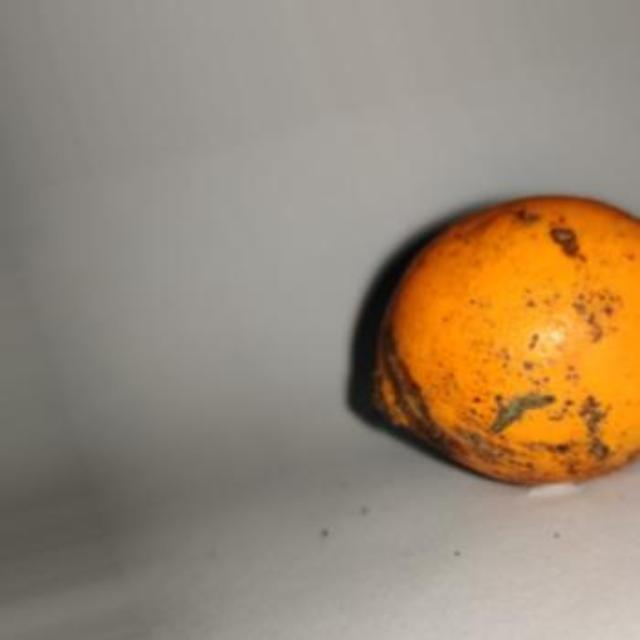good: (349, 196, 638, 488)
